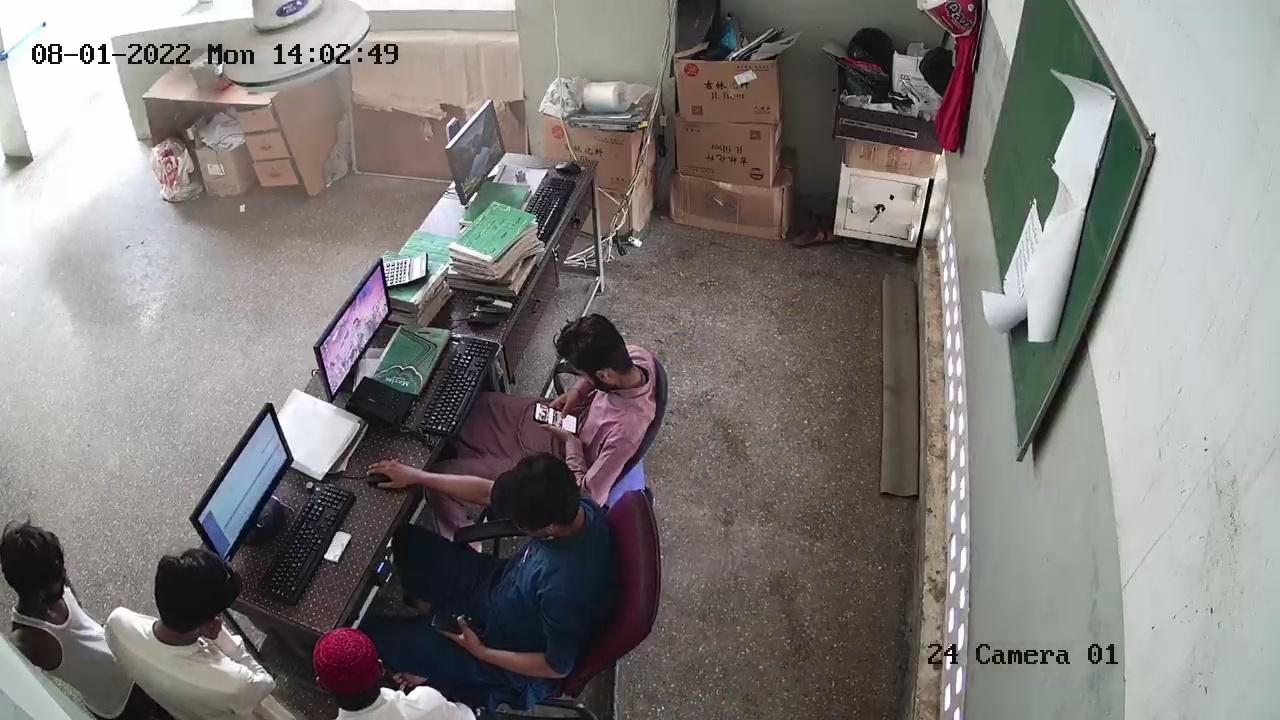person: (430, 462, 604, 652), (475, 310, 661, 475), (119, 552, 282, 720), (4, 518, 139, 717), (304, 630, 467, 720)
